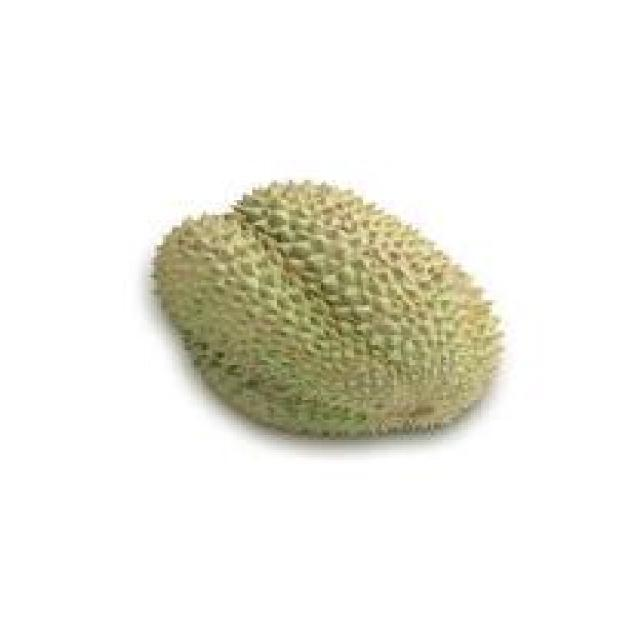fruit: (126, 148, 526, 490)
